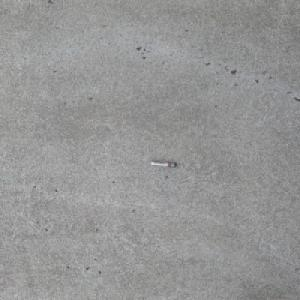Battery: (149, 161, 177, 167)
